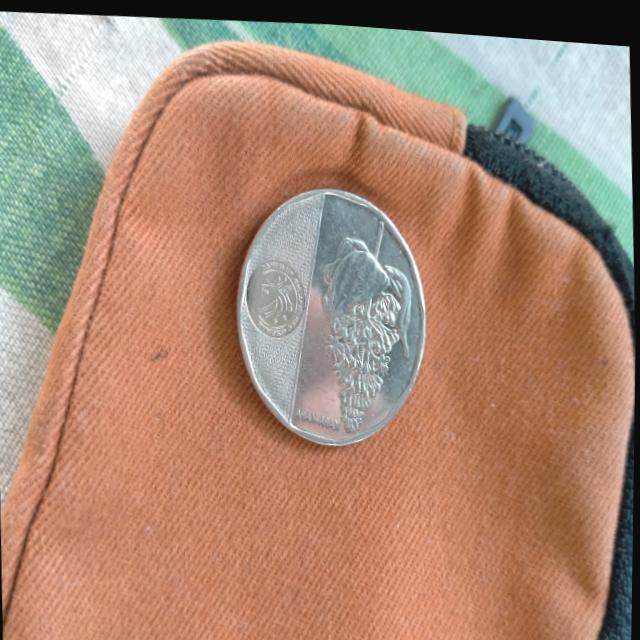10_New_Back: (313, 223, 419, 436)
